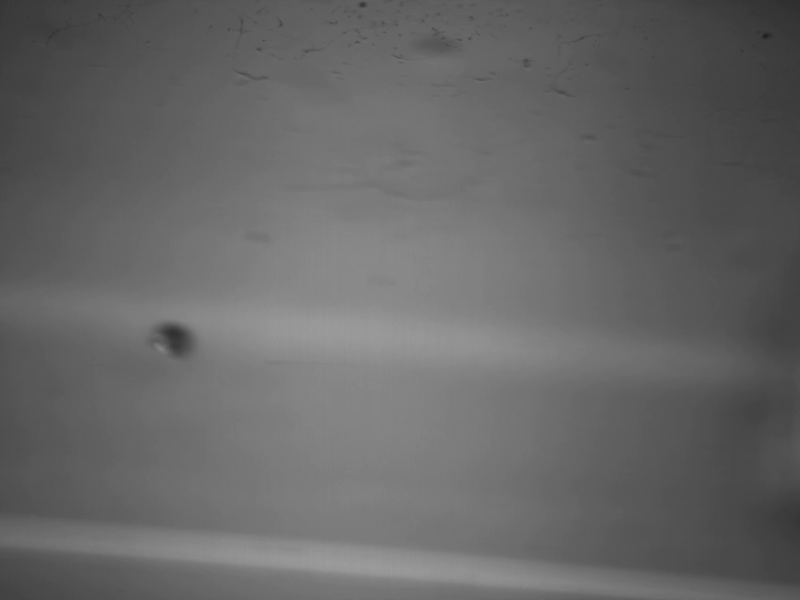bead: (147, 320, 199, 359)
fiber: (280, 174, 474, 202), (257, 354, 360, 372)
